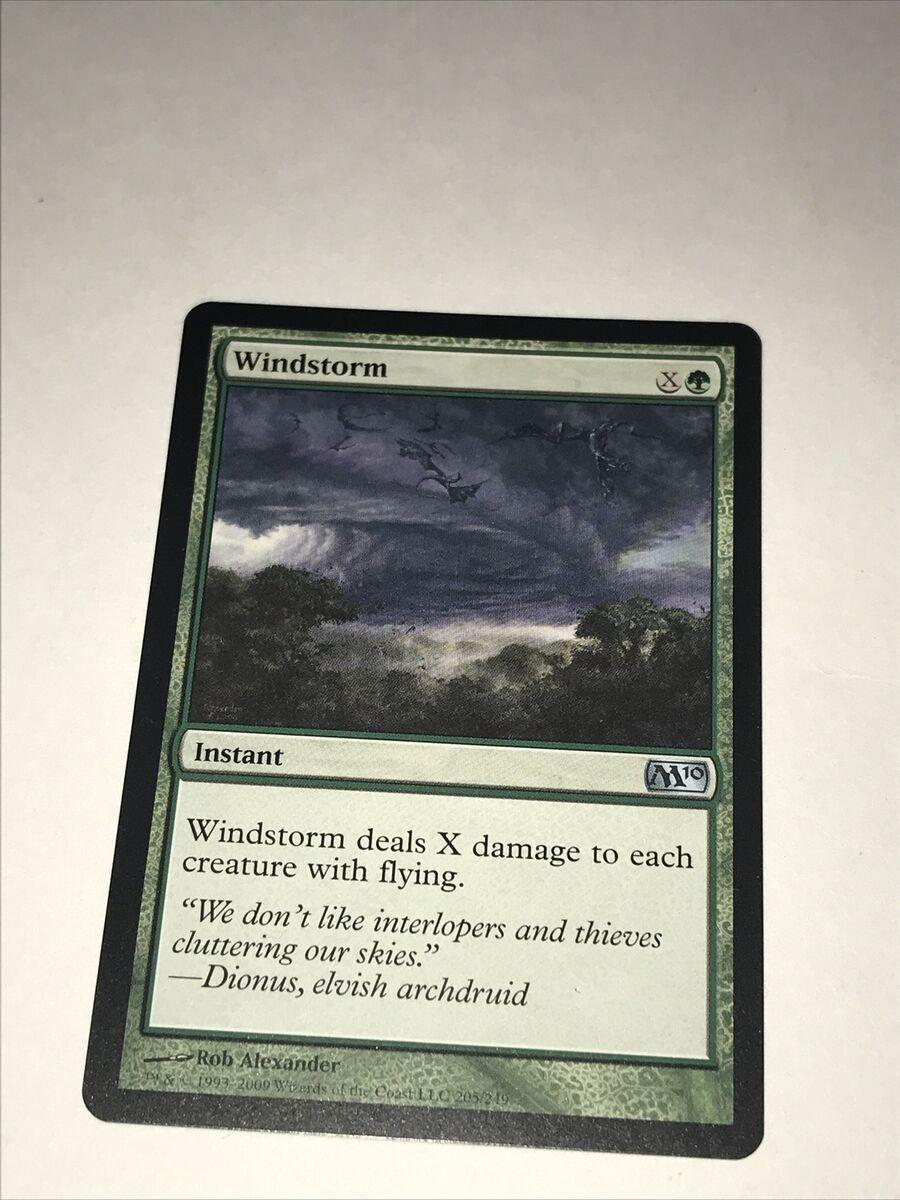card-2UtV: (81, 301, 765, 1161)
